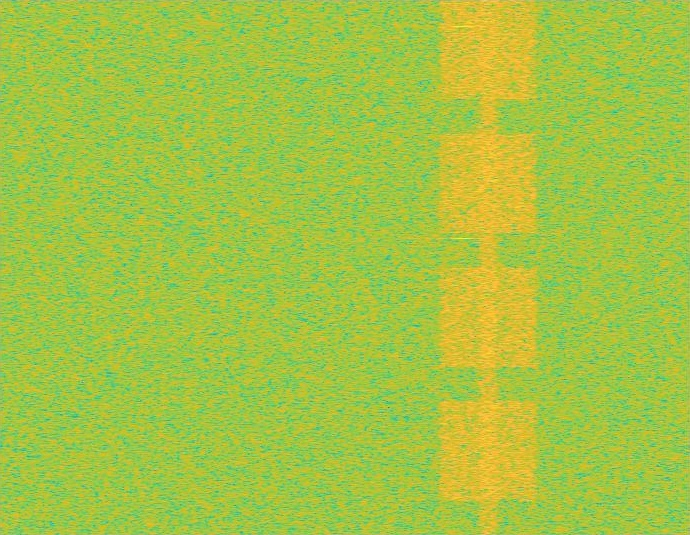5G: (437, 0, 540, 534)
DSSS: (477, 0, 500, 534)
Radar: (456, 0, 470, 534)
